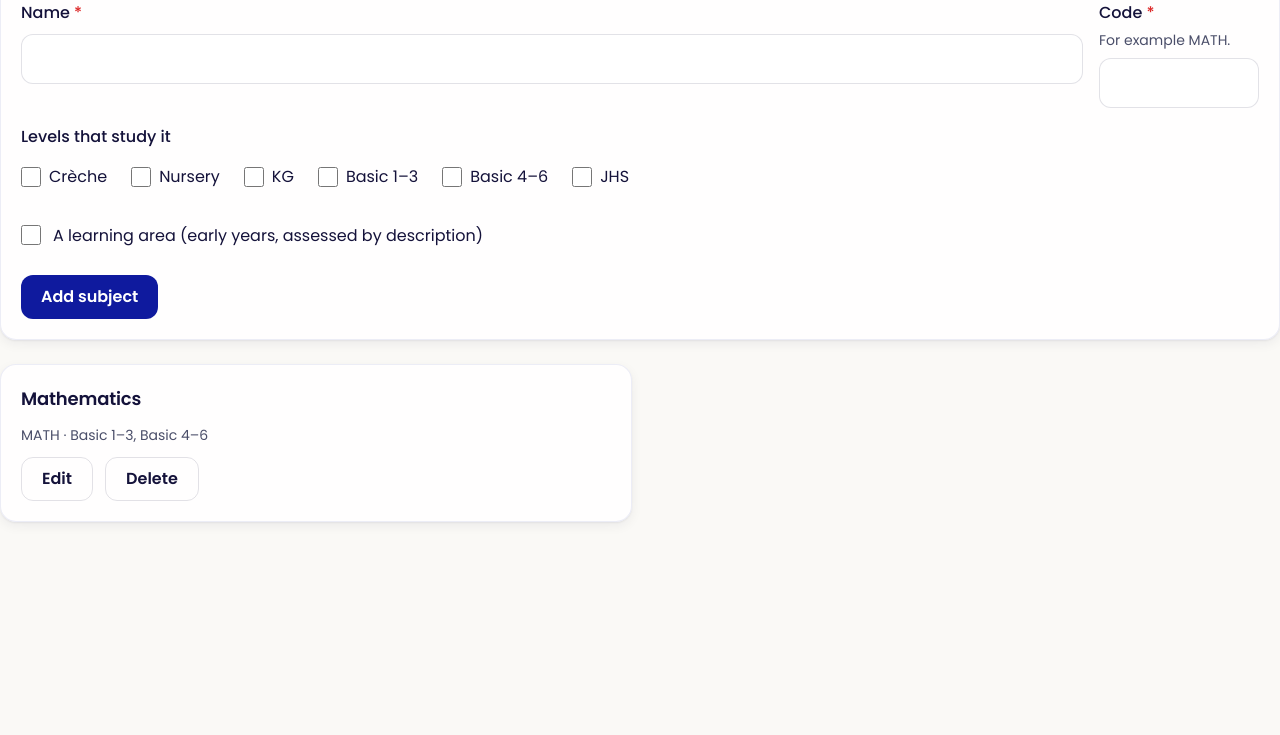
Scenario: SubjectsView › edits a subject
The image size is (1280, 735).
Click the button "Edit" at x=57, y=479, box x1=21 y1=457 x2=93 y2=501
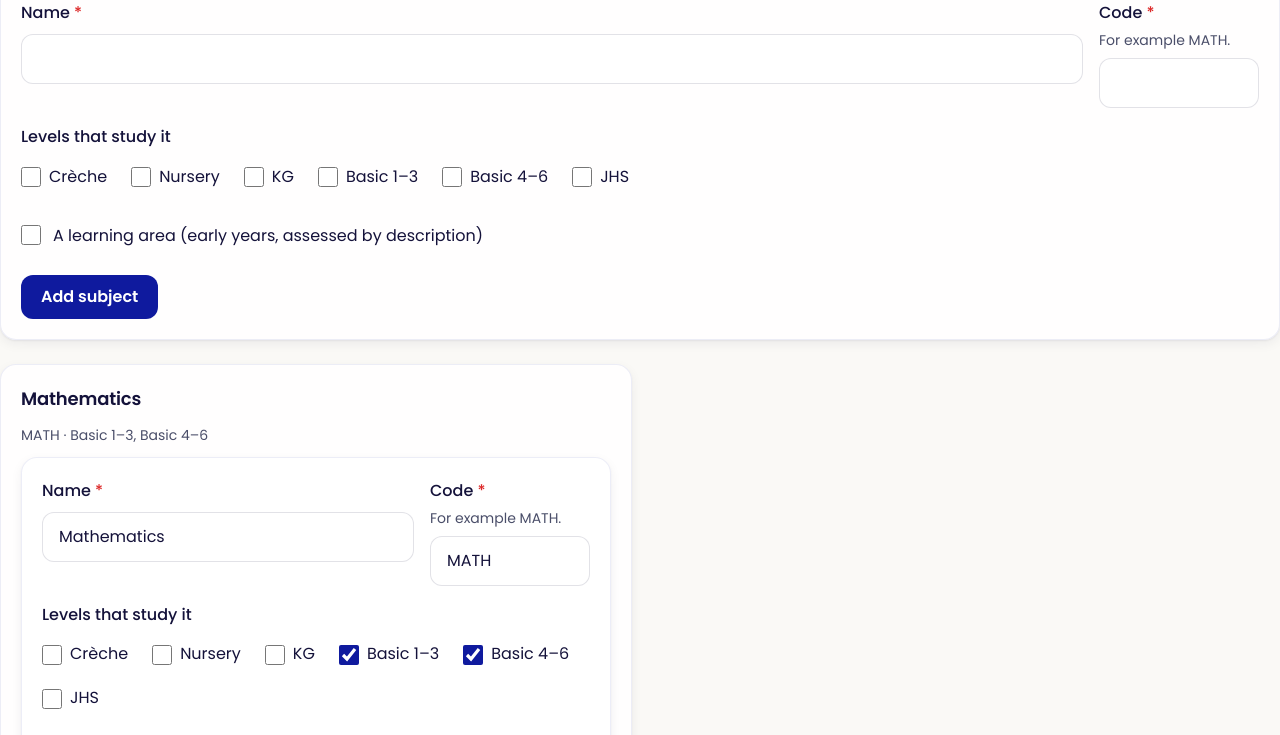
Replace the text in the field labelled "Name *" below "Basic 1–3, Basic 4–6" with "Maths" at x=228, y=537, box x1=42 y1=512 x2=414 y2=562
(page scrolled)
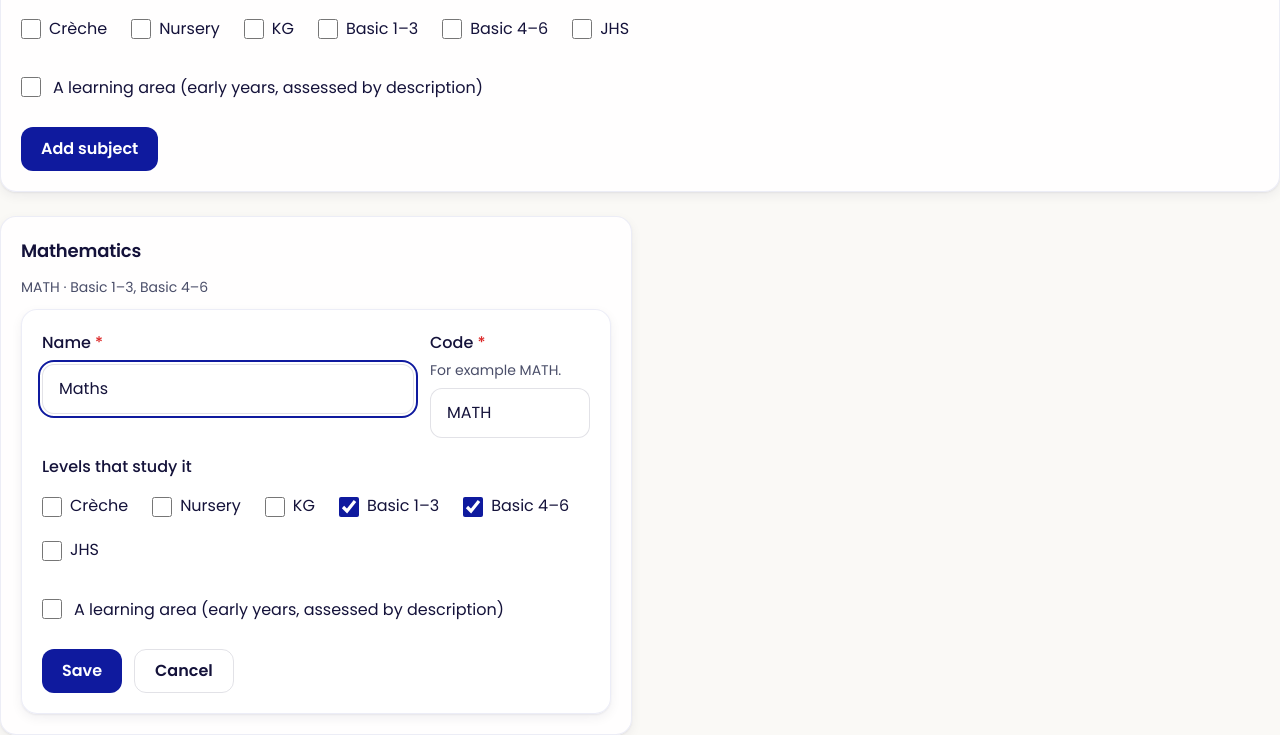
Click the button "Save" at x=82, y=671, box x1=42 y1=649 x2=122 y2=693
(page scrolled)
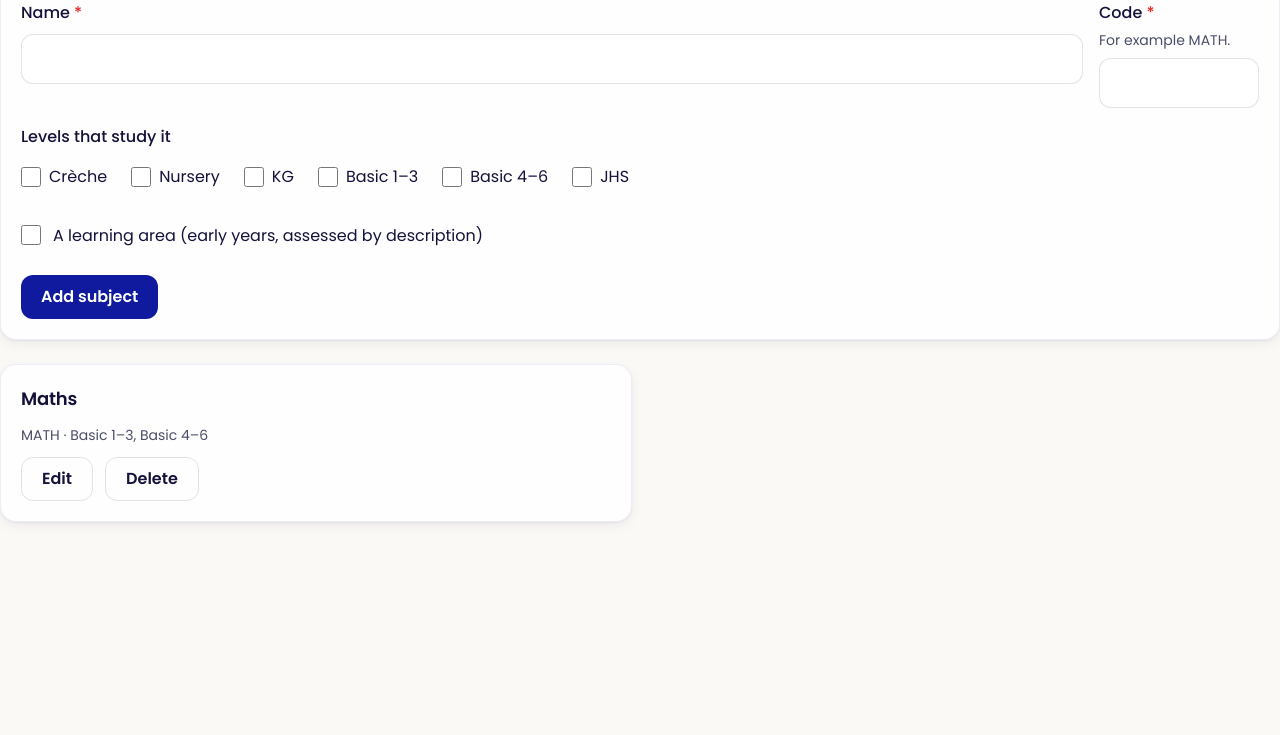
Expected: the element "Maths" is shown, x1=0 y1=364 x2=632 y2=522
